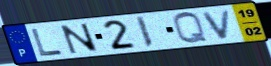2: (102, 19, 139, 51)
I: (134, 15, 156, 49)
L: (30, 27, 66, 57)
N: (59, 22, 102, 55)
Q: (172, 11, 211, 46)
V: (201, 9, 233, 41)
